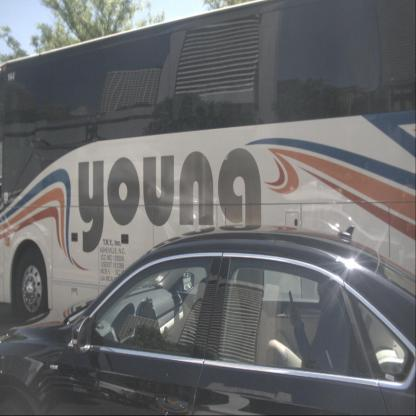vehicle-bus-rigid: (0, 0, 416, 330)
vehicle-car: (0, 225, 416, 416)
